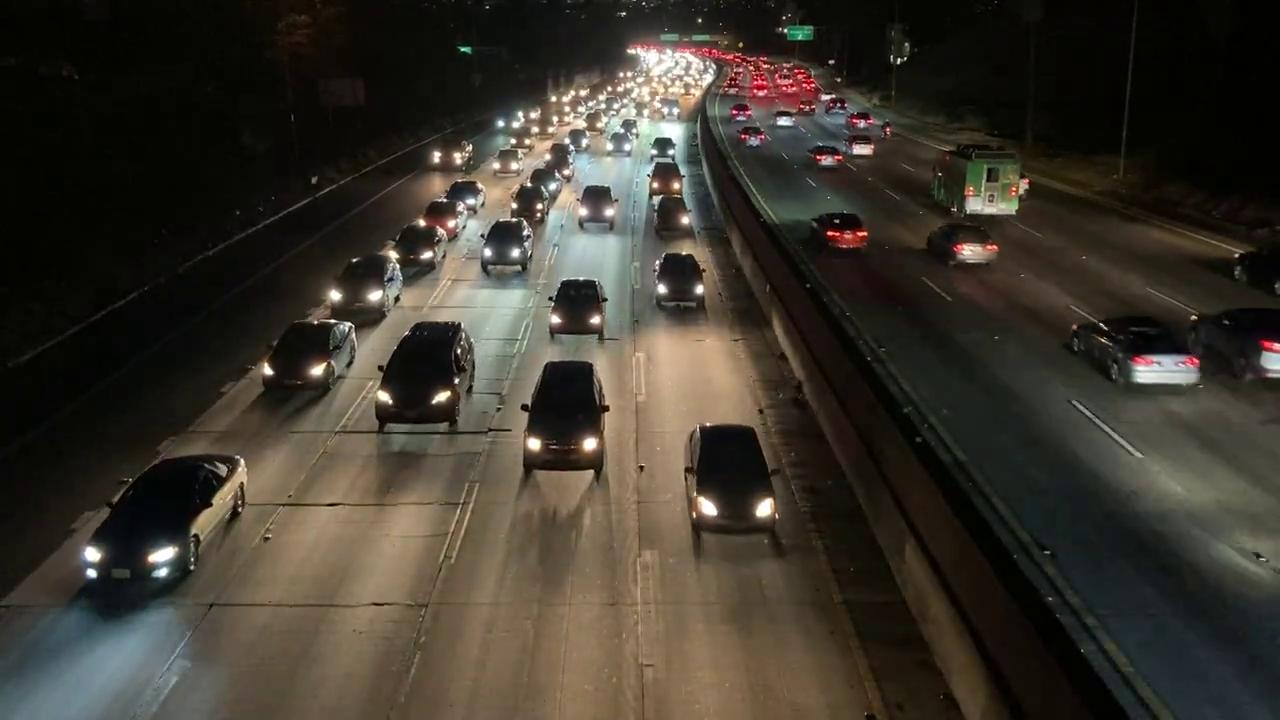bike: (880, 117, 896, 141)
car: (81, 449, 276, 595), (518, 353, 623, 490), (370, 312, 487, 431), (682, 414, 784, 547), (1073, 316, 1208, 391), (1200, 296, 1280, 398), (264, 318, 361, 393), (326, 253, 395, 329), (547, 271, 616, 340), (479, 214, 538, 274), (653, 251, 714, 307), (923, 226, 999, 268), (395, 219, 456, 266), (577, 180, 625, 237), (810, 213, 870, 250), (650, 195, 703, 236), (646, 155, 694, 197), (427, 137, 482, 173), (449, 174, 491, 216), (424, 201, 467, 239), (490, 144, 524, 176), (810, 144, 849, 168), (606, 130, 638, 159), (738, 124, 771, 150), (845, 134, 877, 160), (648, 136, 673, 163), (773, 108, 798, 134), (726, 103, 755, 122)
